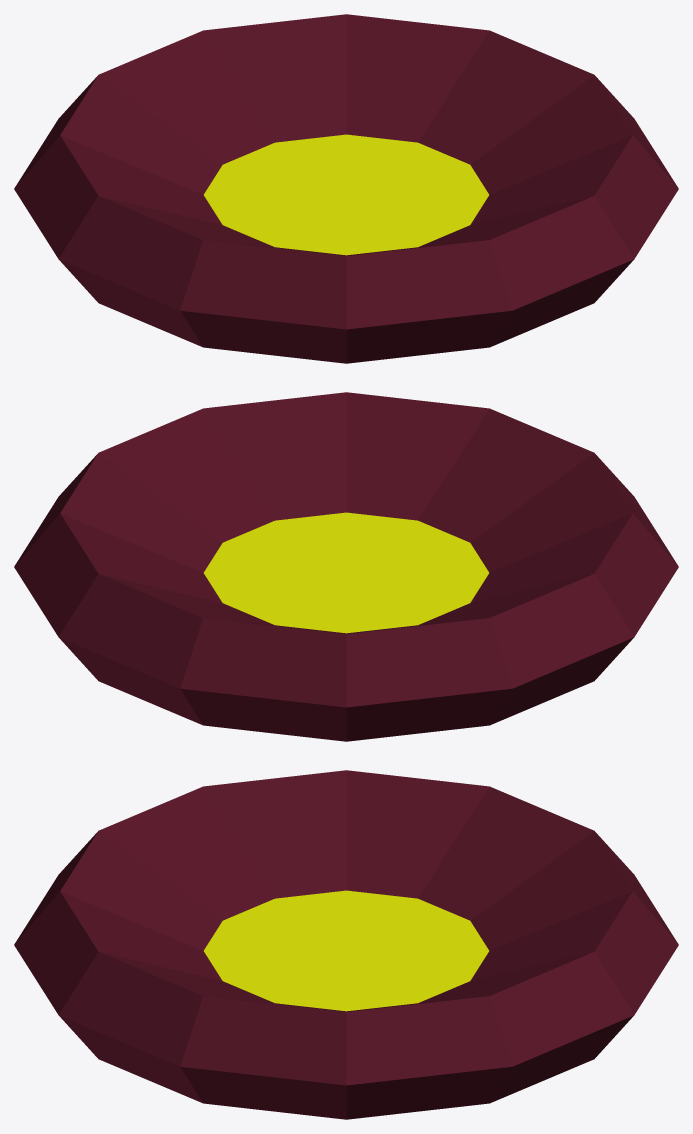
The model's file is Target Point.fbx.
3 renders of one model, top to bottom at view 1: azimuth 30°, elevation 25°; view 2: azimuth 150°, elevation 25°; view 3: azimuth 270°, elevation 25°, orthographic.
Visible parts, largest first — view 1: Cylinder; view 2: Cylinder; view 3: Cylinder.
Part boxes in pixels (<box>): Cylinder: <box>14,14,678,363</box>; Cylinder: <box>14,392,678,741</box>; Cylinder: <box>14,770,678,1119</box>.
Size of the model in its own units: 232 by 41.41 by 232.
